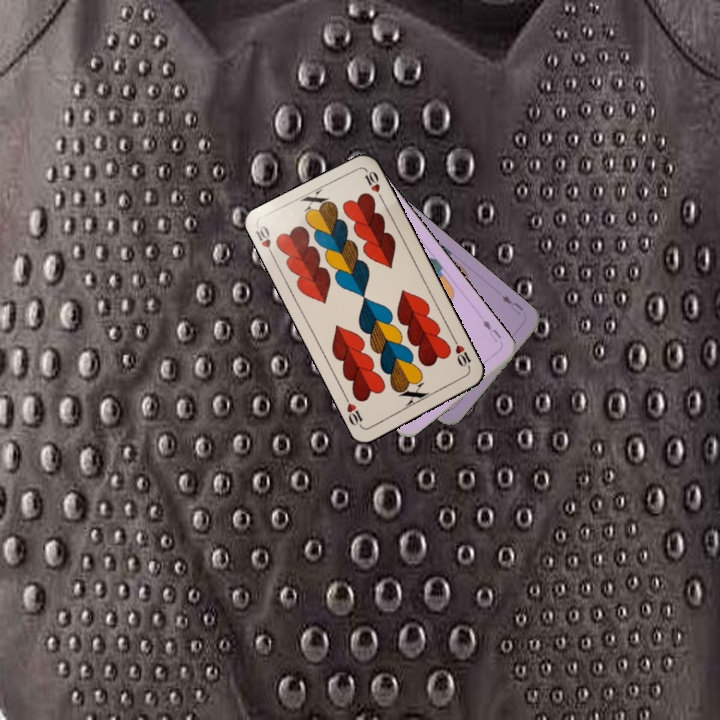EU: (498, 291, 526, 317), (479, 316, 504, 345)
H10: (251, 222, 277, 261), (449, 335, 474, 373)
